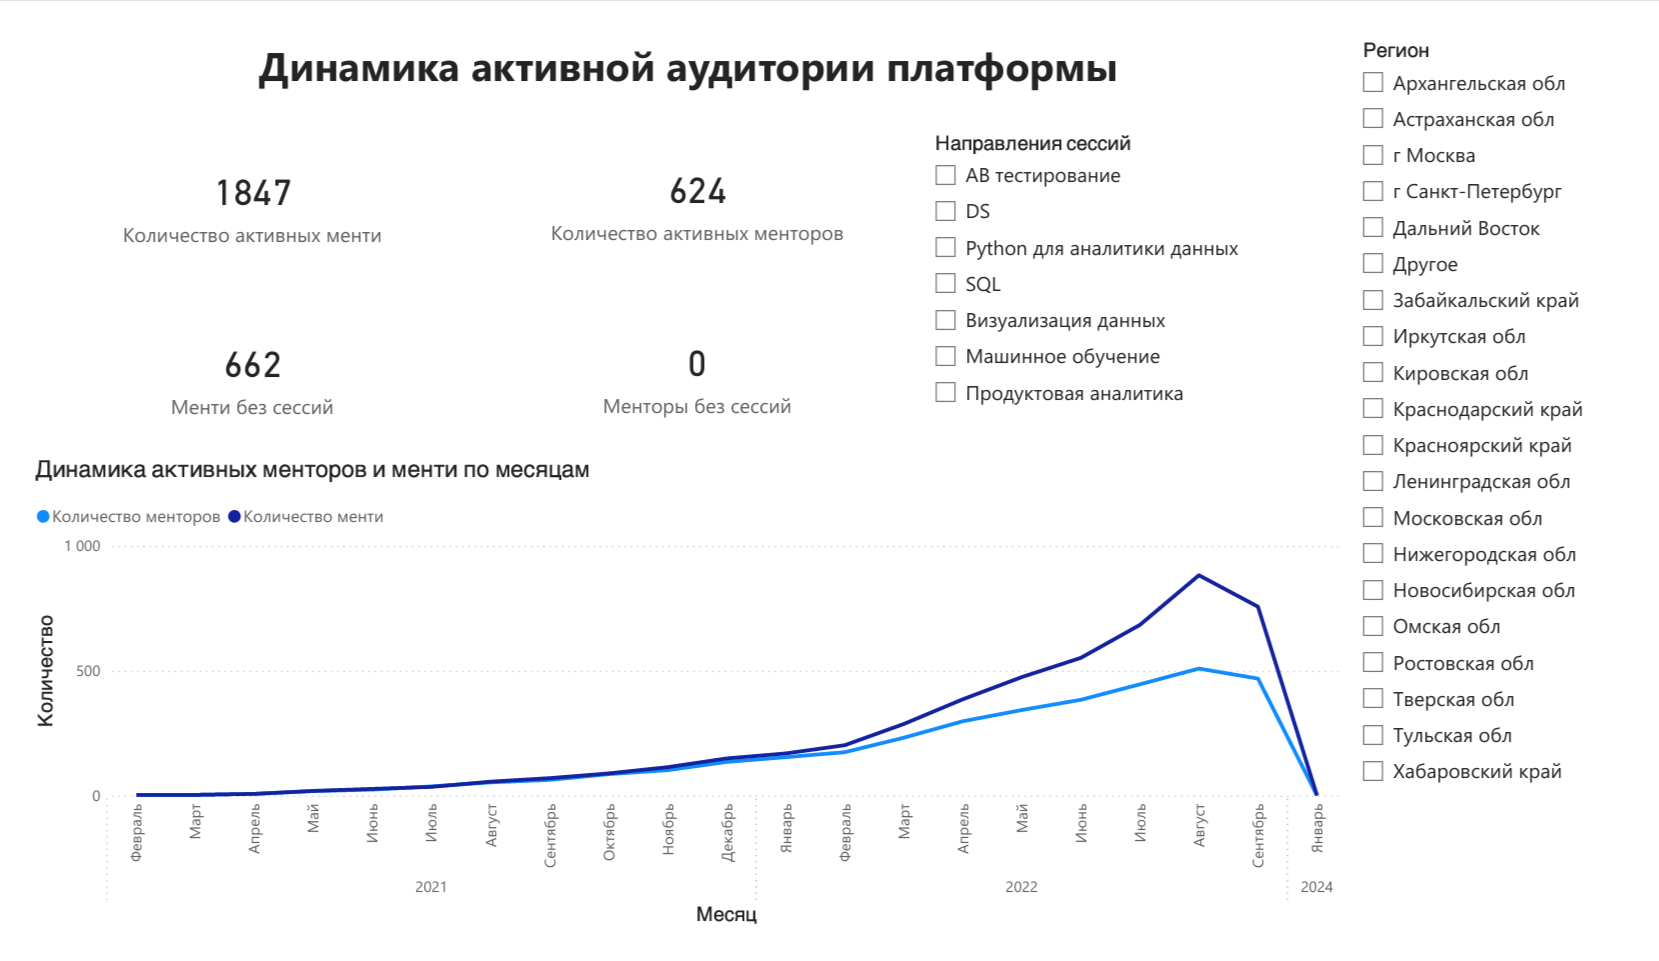

The page's visual inventory and layout, read from the dashboard file:
{"tool":"powerbi","page":{"name":"Обзор и аудитория","canvas":[1280,720],"ordinal":0},"visuals":[{"type":"textbox","box":[0,0,1053.9,63.1],"z":0},{"type":"card","fields":{"Values":["Count(sessions.mentee_id)"]},"box":[0,63.1,356.8,149.6],"z":1000},{"type":"card","fields":{"Values":["Count(sessions.mentor_id)"]},"box":[356.8,61.7,355.4,149.6],"z":2000},{"type":"lineChart","title":"Динамика активных менторов и менти по месяцам","fields":{"Y":["Count(sessions.mentor_id)","Count(sessions.mentee_id)"],"Category":["sessions.session_date_time.Изменение.Иерархия дат.Год","sessions.session_date_time.Изменение.Иерархия дат.Месяц"]},"box":[0,337.6,1053.9,382.8],"z":3000},{"type":"card","fields":{"Values":["sessions.Менти без сессий"]},"box":[0,212.7,356.8,124.9],"z":4000},{"type":"card","fields":{"Values":["sessions.Менторы без сессий"]},"box":[356.8,211.3,355.4,126.2],"z":5000},{"type":"slicer","fields":{"Values":["domain.name"]},"box":[712.2,74.1,341.7,241.5],"z":6000},{"type":"slicer","fields":{"Values":["region.name"]},"box":[1053.9,0,226.4,629.8],"z":7000}]}

Visuals, with their boxes in screenshot pixels (x1, y1, x2, y2), scaled from the page's 1280x720 canvas onto the 1659x961 screenshot:
textbox: <region>0, 0, 1366, 84</region>
card - Count(sessions.mentee_id): <region>0, 84, 462, 284</region>
card - Count(sessions.mentor_id): <region>462, 82, 923, 282</region>
"Динамика активных менторов и менти по месяцам" lineChart: <region>0, 451, 1366, 960</region>
card - sessions.Менти без сессий: <region>0, 284, 462, 451</region>
card - sessions.Менторы без сессий: <region>462, 282, 923, 450</region>
slicer - domain.name: <region>923, 99, 1366, 421</region>
slicer - region.name: <region>1366, 0, 1658, 841</region>
